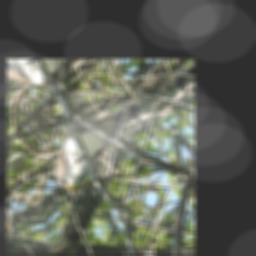Cuckoo: (41, 83, 171, 203)
